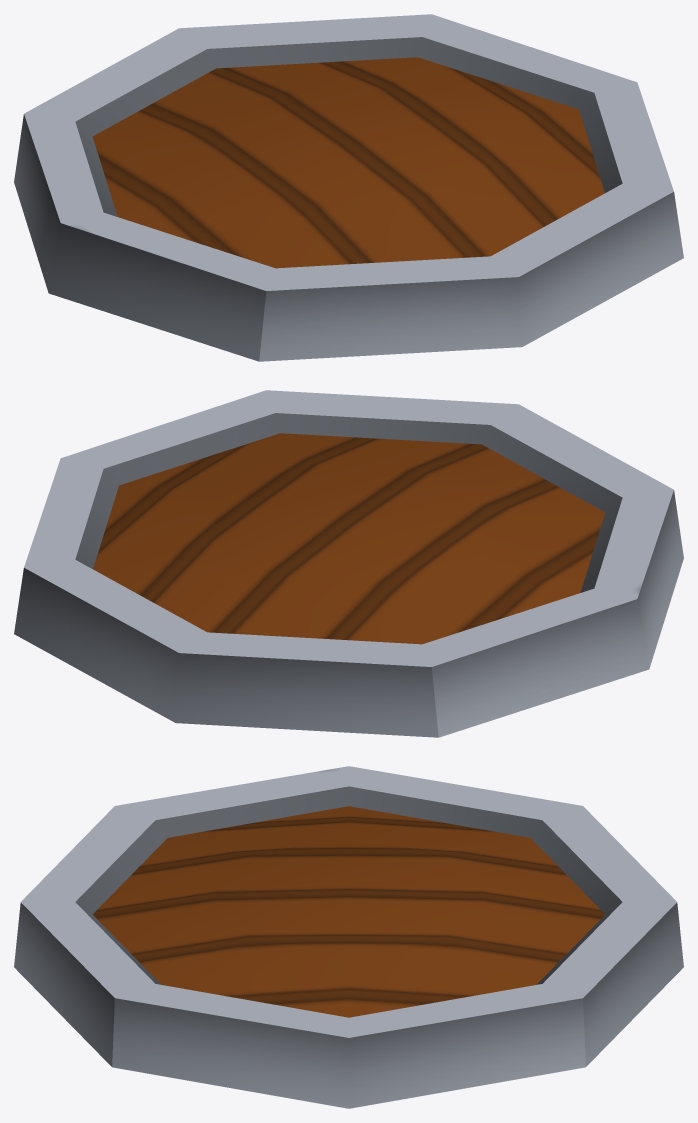
Rendered from wpn-shield.glb.
3 renders of one model, top to bottom at view 1: azimuth 30°, elevation 25°; view 2: azimuth 150°, elevation 25°; view 3: azimuth 270°, elevation 25°, orthographic. The views are drawn at different scales.
Parts seen in each view (by area): view 1: ShieldBasic; view 2: ShieldBasic; view 3: ShieldBasic.
Boxes of the visible parts, <box> form: ShieldBasic: <box>14,14,683,361</box>; ShieldBasic: <box>14,390,683,737</box>; ShieldBasic: <box>14,766,683,1108</box>.
Size of the model in its own units: 0.6774 by 0.1401 by 0.6774.
1 material, 1 textured.
